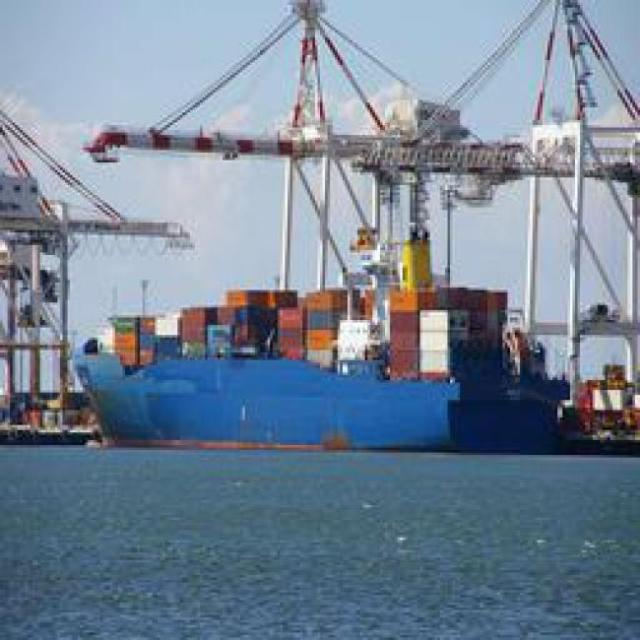boat: (58, 285, 577, 456)
